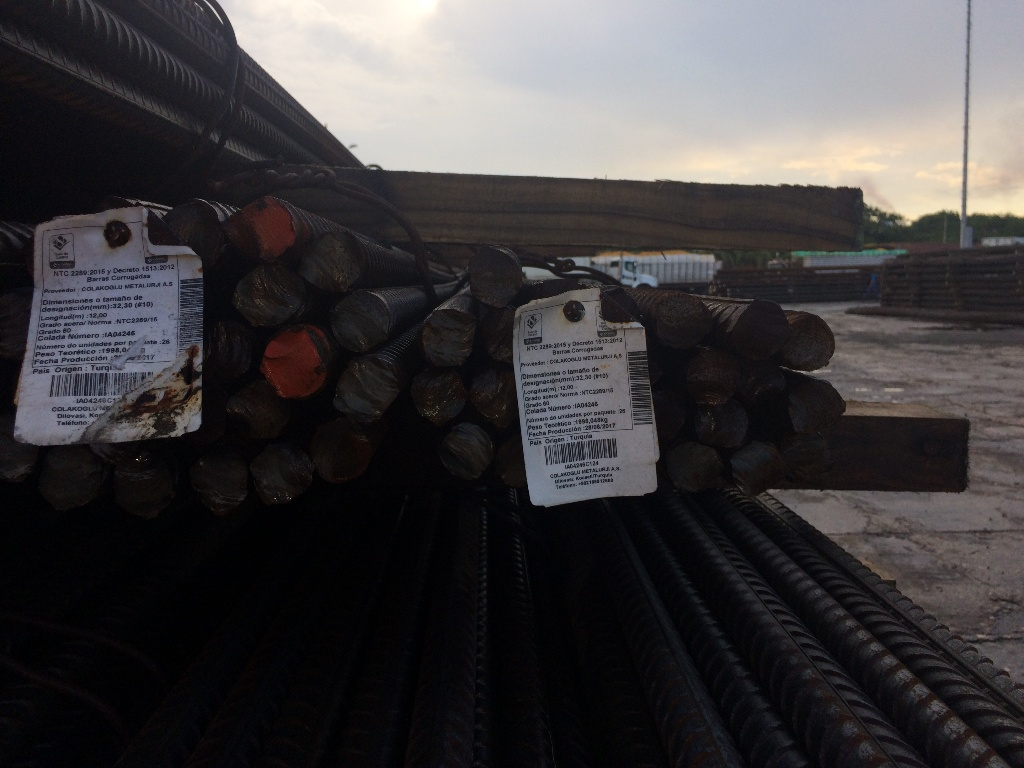dipstick: (224, 197, 295, 260), (41, 442, 104, 510), (235, 265, 305, 326), (334, 357, 396, 420), (264, 330, 324, 395), (251, 445, 313, 507), (115, 450, 173, 516), (166, 200, 222, 268), (313, 419, 371, 482), (190, 453, 248, 515), (330, 293, 390, 352), (302, 234, 362, 292), (421, 309, 474, 366), (654, 294, 712, 346), (229, 384, 284, 438), (412, 369, 466, 423), (789, 382, 846, 433), (787, 312, 835, 371), (439, 424, 491, 478), (204, 320, 248, 383), (471, 249, 519, 306), (738, 301, 786, 355), (687, 353, 737, 404), (667, 444, 720, 492), (732, 444, 781, 495), (471, 369, 515, 420), (697, 405, 748, 448), (737, 362, 784, 402), (481, 306, 514, 360)
